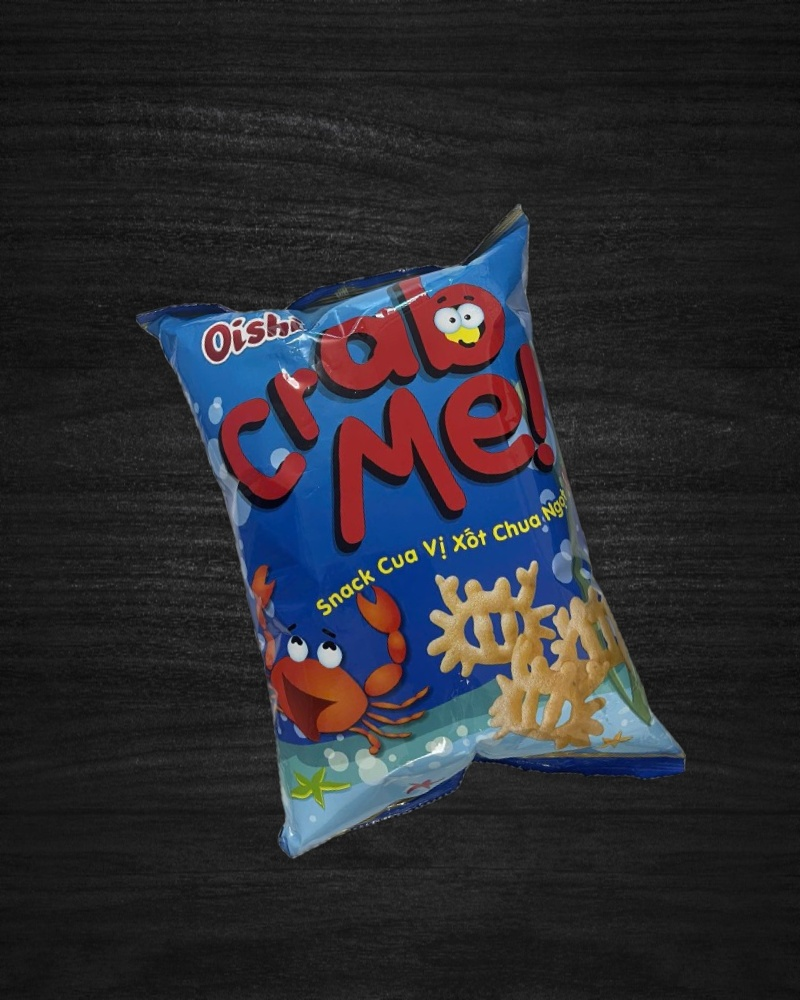Snack chay: (133, 199, 691, 881)
